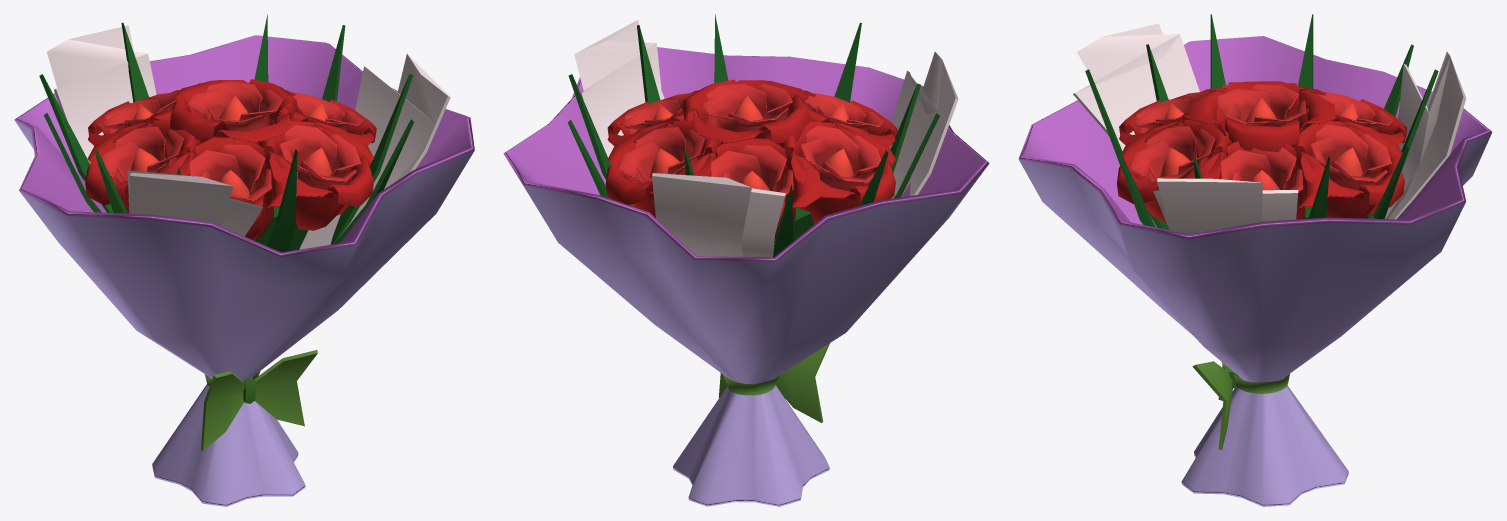
File: flower.fbx
The picture shows the model from 3 angles, left to right: view 1: azimuth 30°, elevation 25°; view 2: azimuth 150°, elevation 25°; view 3: azimuth 270°, elevation 25°; orthographic projection.
Visible parts, largest first — view 1: flower; view 2: flower; view 3: flower.
Part boxes in pixels (<box>): flower: <box>14,14,474,506</box>; flower: <box>503,14,989,506</box>; flower: <box>1018,14,1492,506</box>.
Size of the model in its own units: 100 by 90.89 by 99.11.
